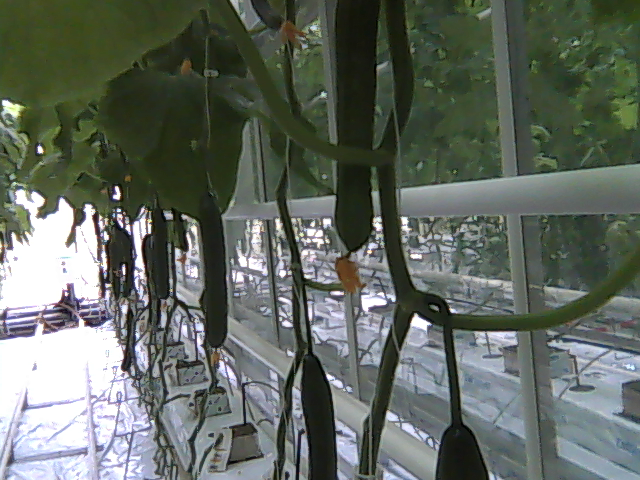concombre: (324, 1, 383, 293), (194, 186, 231, 371), (300, 349, 344, 480), (433, 419, 491, 480)
